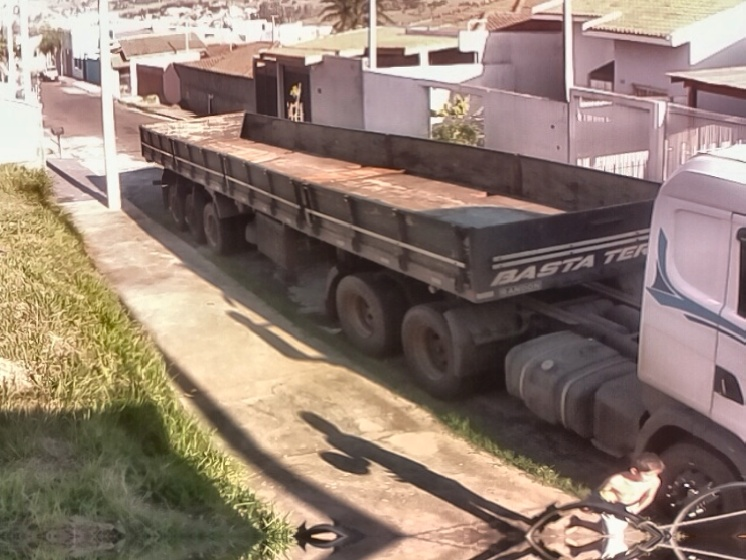person: (559, 450, 664, 560)
